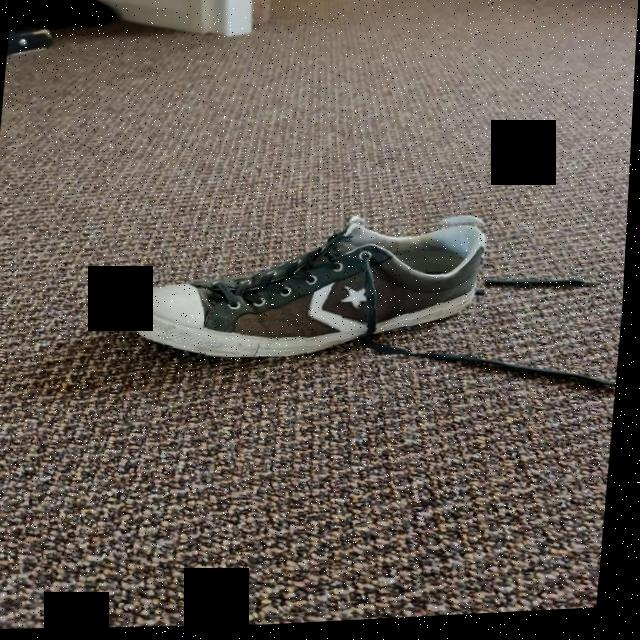shoe: (117, 204, 493, 373)
